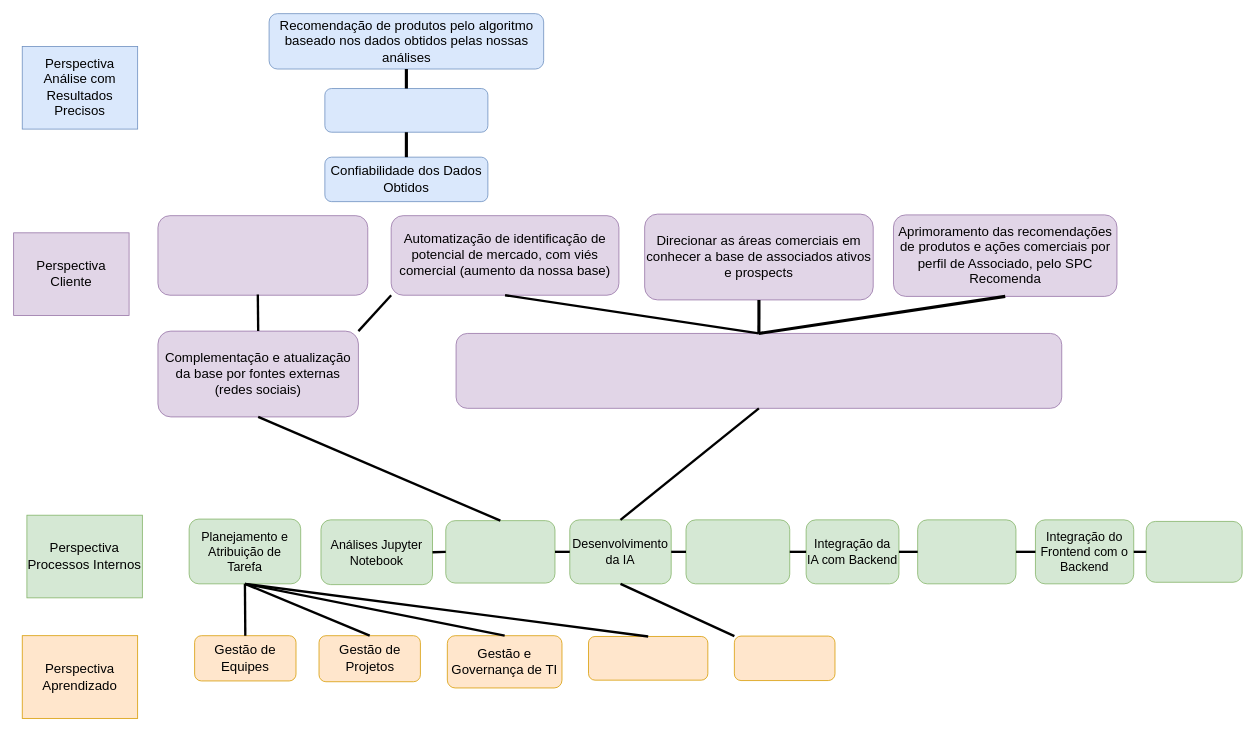
Some shapes in this 1256 by 732 pixel diagram are drawn without their labels. Each missing label, with the centre of its shape:
"Deploy do Serviço" goes at (x=1193, y=551).
"Desenvolvimento de um algoritmo de machine learning" goes at (x=758, y=370).
"Desenvolvimento do Backend" goes at (x=737, y=551).
"Desenvolvimento do Frontend" goes at (x=966, y=551).
"Elaboração das Bases de Dados" goes at (x=500, y=551).
"Empreendedorismo" goes at (x=648, y=658).
"Inteligência Artificial" goes at (x=784, y=658).
"Maior Detalhamento do cliente, que permitirá ações comerciais personalizadas" goes at (x=262, y=255).
"Qualidade e Precisão na Recomendação" goes at (x=406, y=110).
